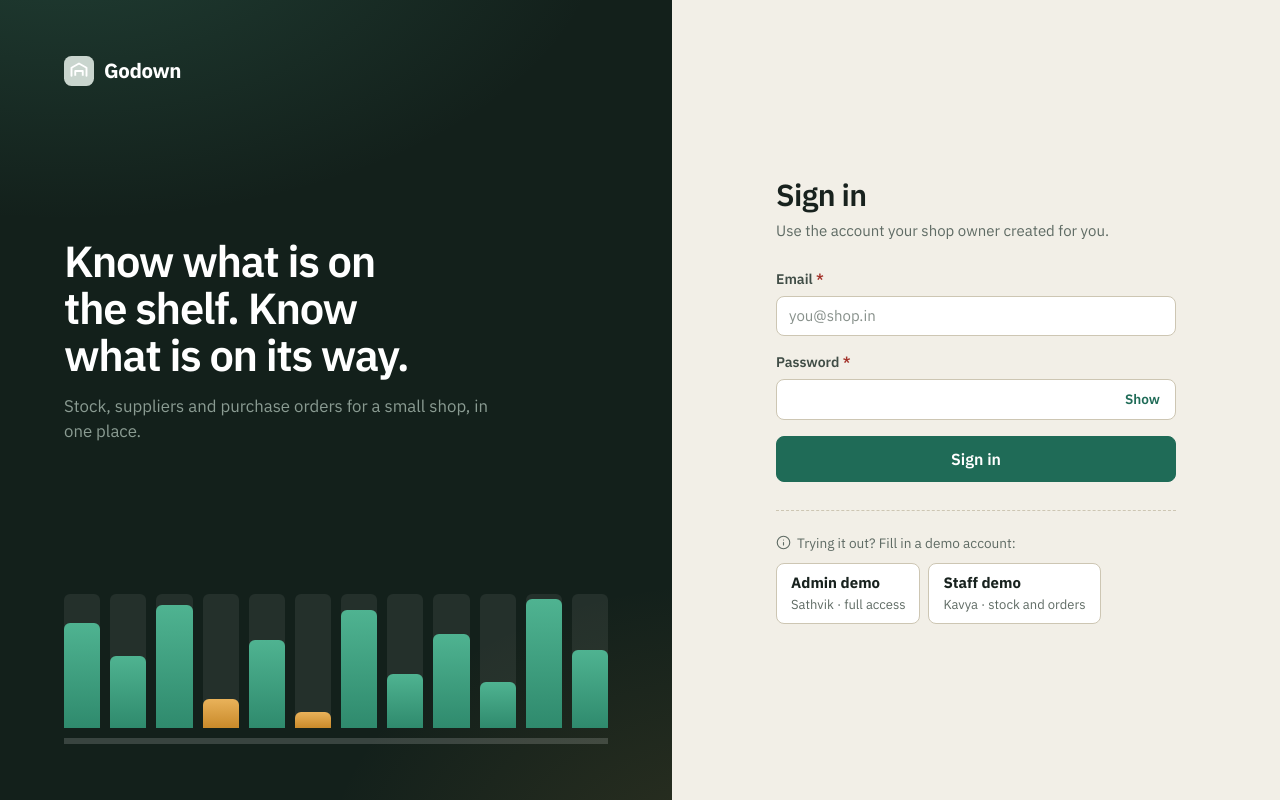
Test: login › fills credentials from a demo button
Click the button "Admin demo Sathvik · full access": click(848, 593) [776,563,920,624]
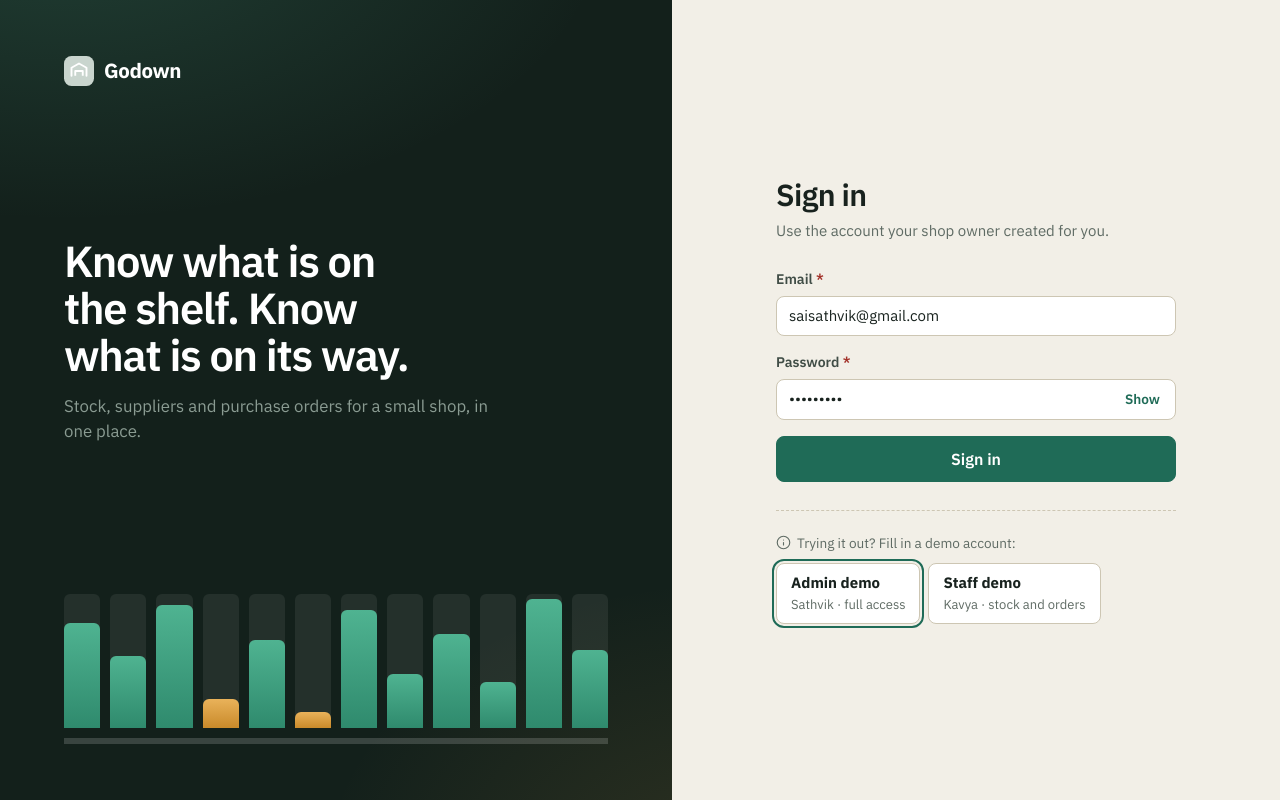
Expected: the field labelled "Email *" holds "saisathvik@gmail.com", [776,296,1176,336]
